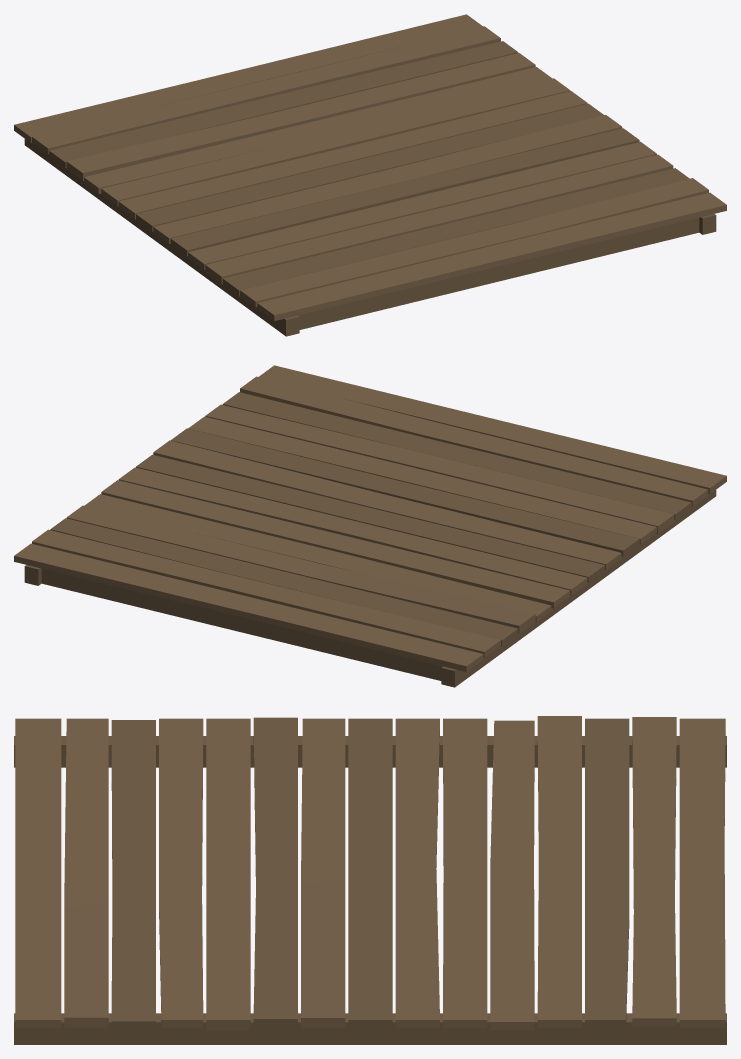
Rendered from SM_Props_City_Beach_Pier_Floor_03.fbx.
3 renders of one model, top to bottom at view 1: azimuth 30°, elevation 25°; view 2: azimuth 150°, elevation 25°; view 3: azimuth 270°, elevation 25°, orthographic. The views are drawn at different scales.
Visible parts, largest first — view 1: SM_Props_City_Beach_Pier_Floor_03; view 2: SM_Props_City_Beach_Pier_Floor_03; view 3: SM_Props_City_Beach_Pier_Floor_03.
Part boxes in pixels (left/top/right/bottom): SM_Props_City_Beach_Pier_Floor_03: left=14, top=14, right=726, bottom=336; SM_Props_City_Beach_Pier_Floor_03: left=14, top=365, right=726, bottom=687; SM_Props_City_Beach_Pier_Floor_03: left=14, top=716, right=726, bottom=1044.
Size of the model in its own units: 400 by 21.69 by 400.
